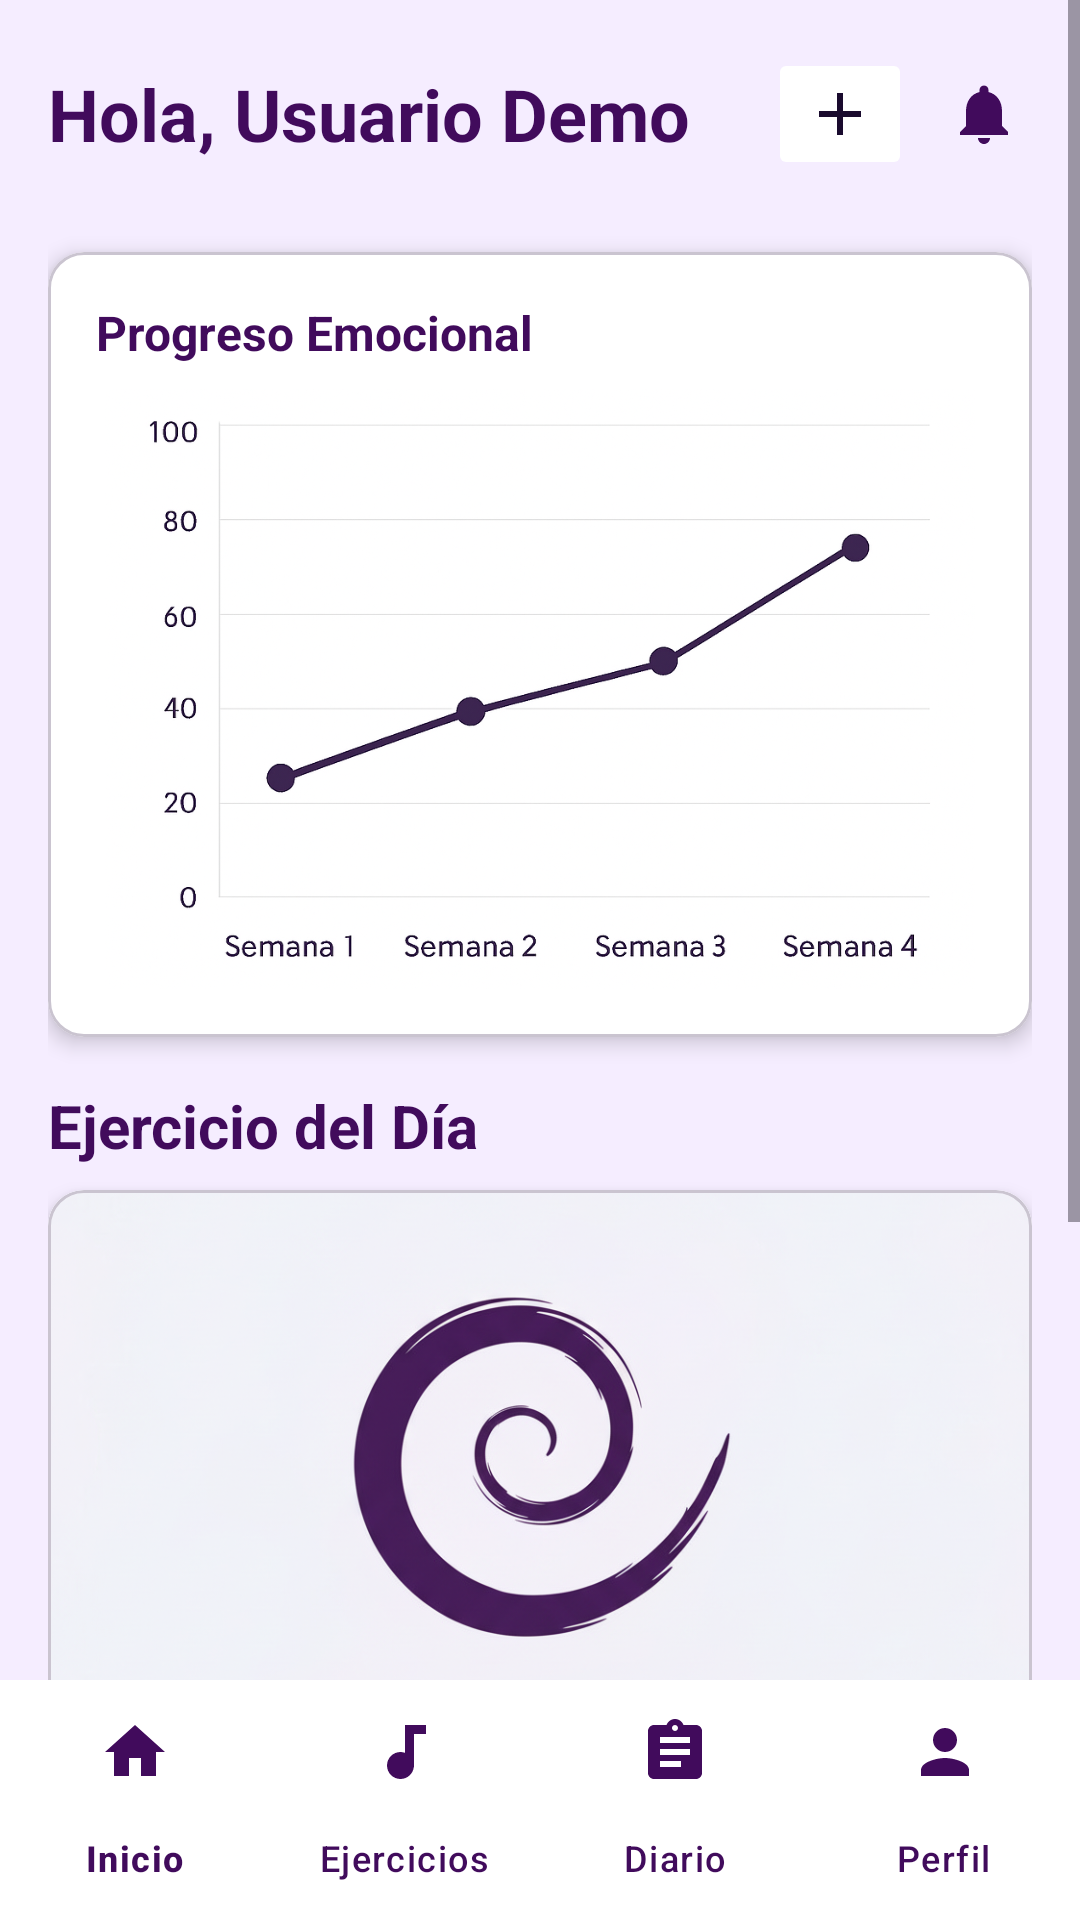

Where icons sit on this 1080px×1920px app screen, as (x1, y1, x2, y2):
Crear: (780, 66, 900, 162)
Notificaciones: (960, 85, 1008, 144)
